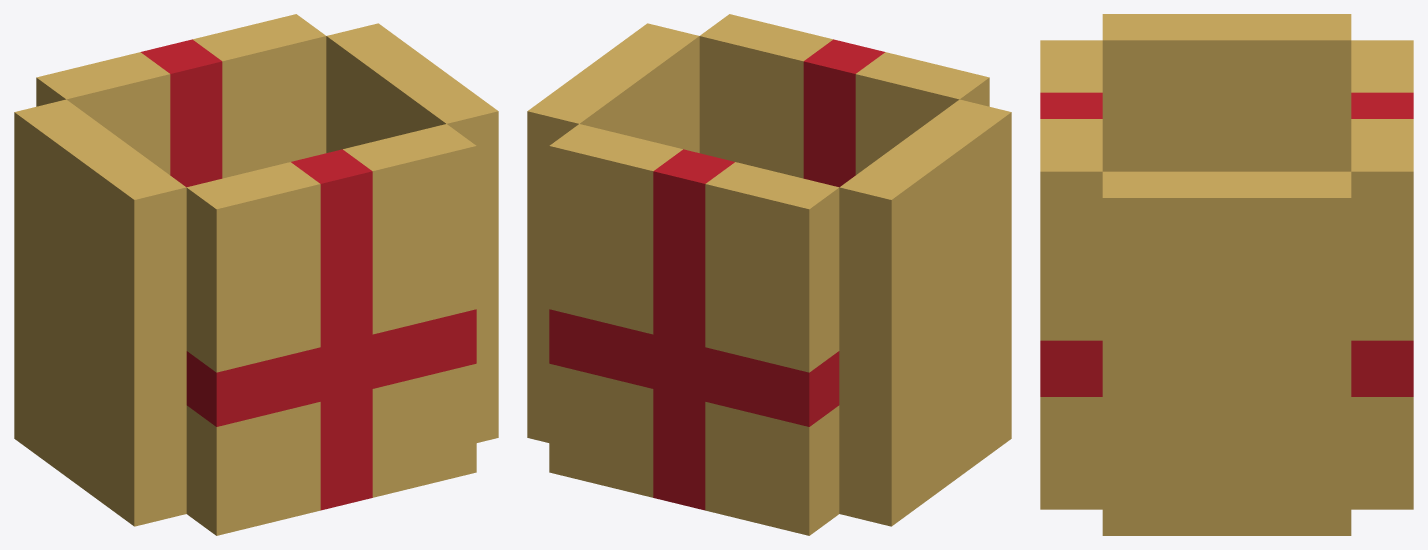
The model's file is colonia_2.glb.
3 views of the same model, side by side, from view 1: azimuth 30°, elevation 25°; view 2: azimuth 150°, elevation 25°; view 3: azimuth 270°, elevation 25° (orthographic). The views are drawn at different scales.
Parts seen in each view (by area): view 1: model; view 2: model; view 3: model.
Part boxes in pixels (<box>): model: <box>14,14,498,535</box>; model: <box>527,14,1011,535</box>; model: <box>1040,14,1413,535</box>.
Size of the model in its own units: 0.7 by 0.6 by 0.6.
